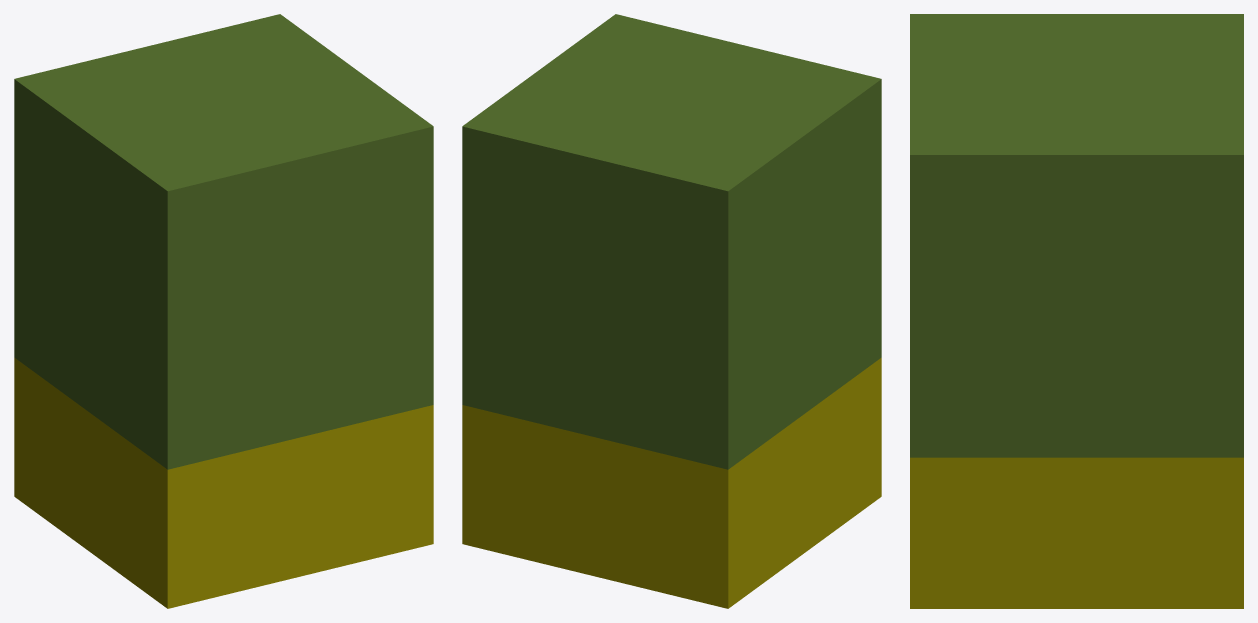
Rendered from Char18-Leg2.gltf.
3 views of the same model, side by side, from view 1: azimuth 30°, elevation 25°; view 2: azimuth 150°, elevation 25°; view 3: azimuth 270°, elevation 25° (orthographic). The views are drawn at different scales.
Bounding box in the file's own units: 2 × 3 × 2.
